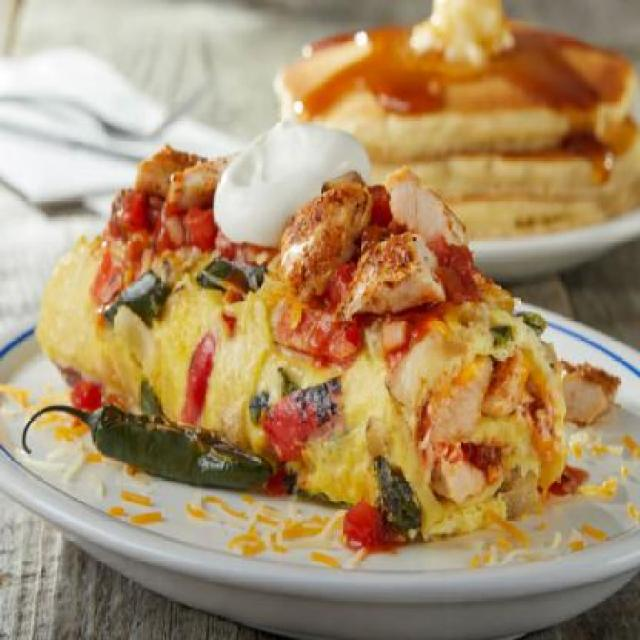omelette: (31, 193, 574, 544)
pancakes: (267, 18, 639, 237)
